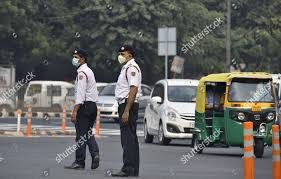mask: (116, 46, 134, 65), (70, 48, 87, 66)
